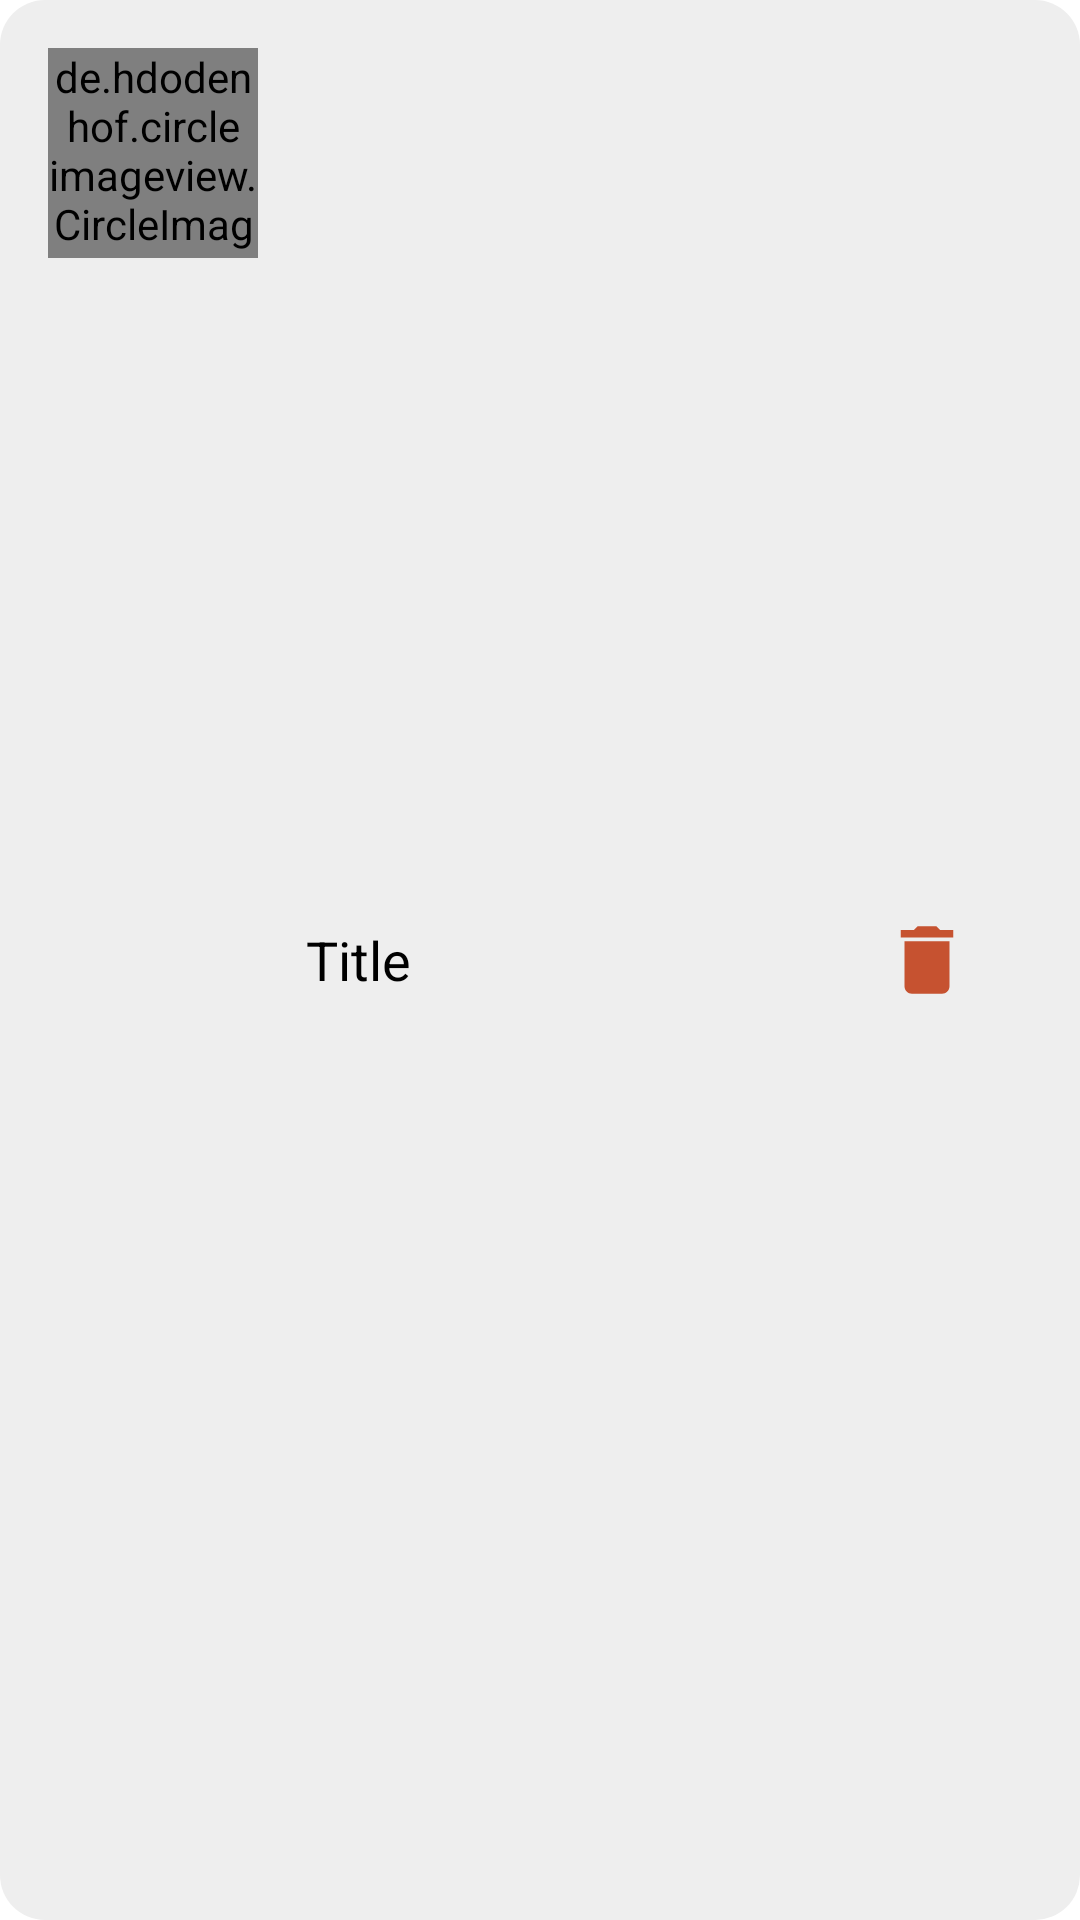

Icon bounding boxes for this 1080x1920 phone screenshot, format (x1, y1, x2, y2):
delete: (900, 926, 954, 994)
